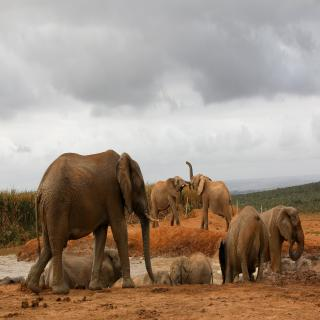Elephant: (31, 144, 160, 301), (216, 203, 272, 294), (258, 198, 307, 284), (187, 155, 235, 239), (149, 170, 193, 228), (170, 248, 215, 288)
